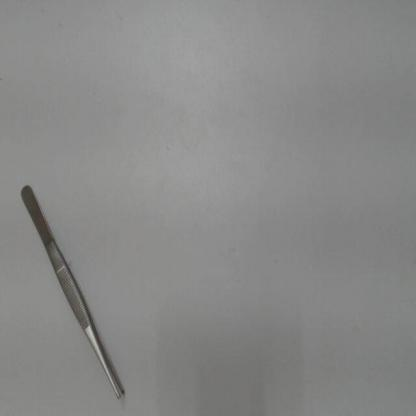Gillies Toothed Dissector: (11, 165, 135, 407)
